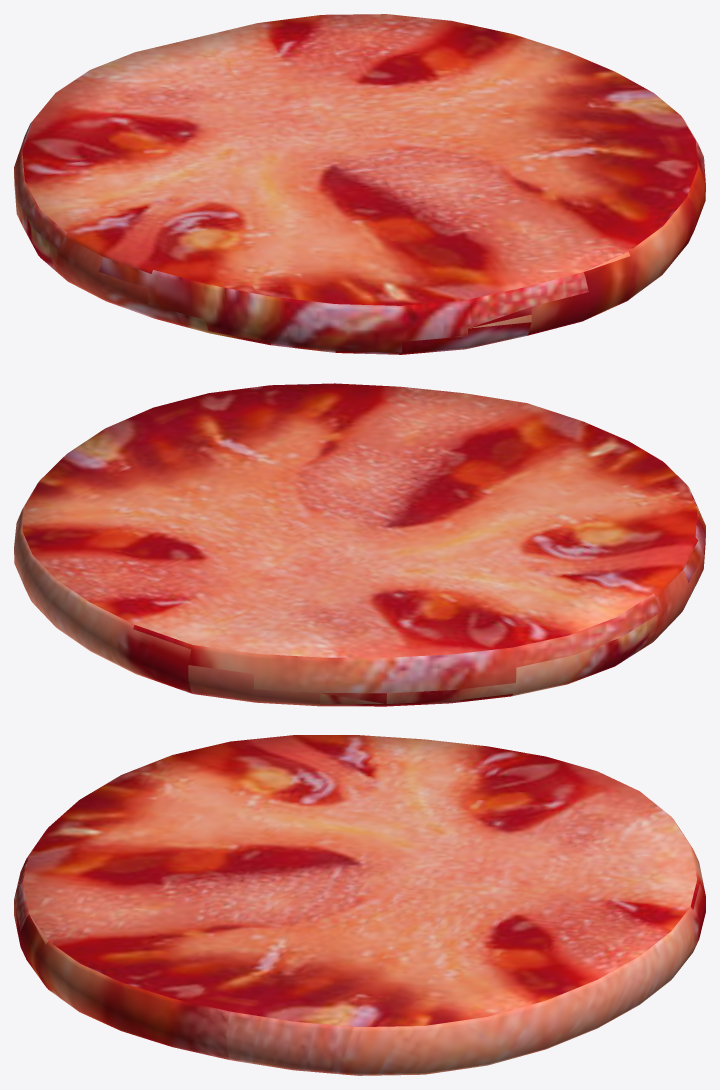
File: tomato.obj
3 renders of one model, top to bottom at view 1: azimuth 30°, elevation 25°; view 2: azimuth 150°, elevation 25°; view 3: azimuth 270°, elevation 25°, orthographic.
Visible parts, largest first — view 1: tomate; view 2: tomate; view 3: tomate.
Boxes of the visible parts, box(x1,y1,x2,y2) form: tomate: box(14, 14, 705, 354); tomate: box(14, 383, 705, 706); tomate: box(14, 735, 705, 1075).
Size of the model in its own units: 2.07 by 0.2023 by 2.05.
Materials: 1 (1 with a texture image).
